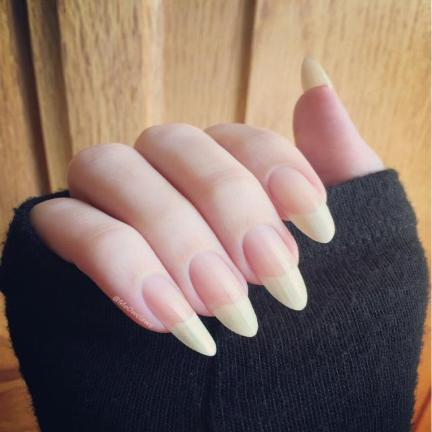Nail: (142, 274, 216, 356), (189, 251, 258, 337), (243, 225, 307, 311), (268, 168, 335, 243)
